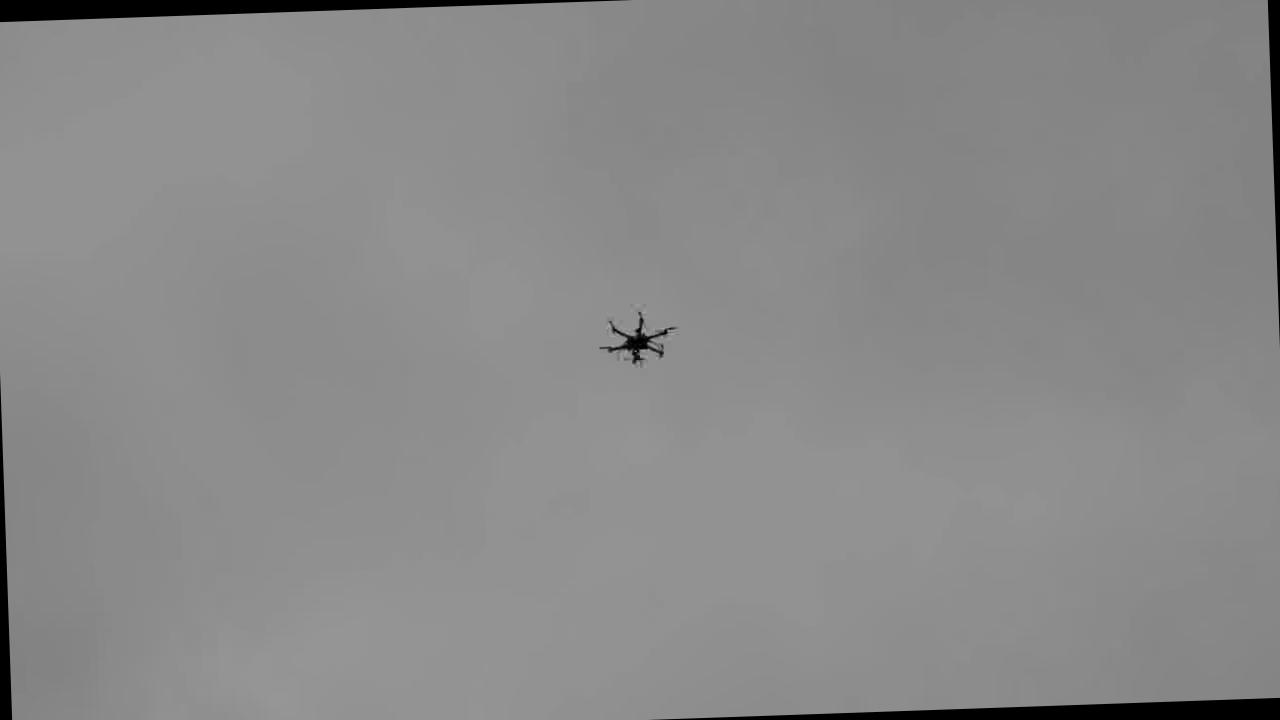drone: (595, 304, 677, 372)
